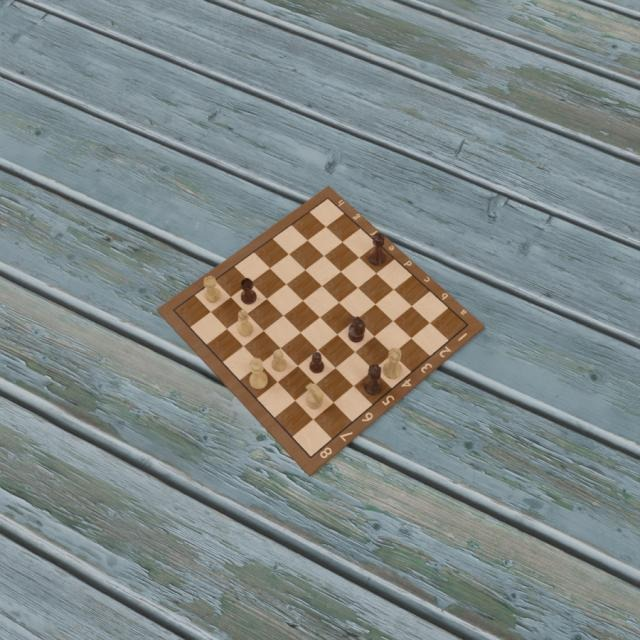black-king: (366, 233, 388, 267)
black-knight: (347, 315, 365, 343)
black-pawn: (308, 350, 324, 373)
black-queen: (364, 362, 384, 397)
black-rook: (239, 278, 256, 305)
white-bishop: (237, 308, 254, 337)
white-king: (382, 347, 402, 380)
white-knight: (304, 381, 323, 410)
white-pawn: (271, 347, 288, 372)
white-queen: (249, 357, 268, 391)
white-rook: (203, 274, 221, 305)
